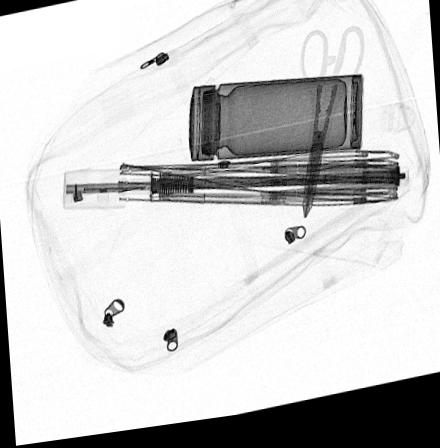Scissors: (299, 35, 363, 226)
